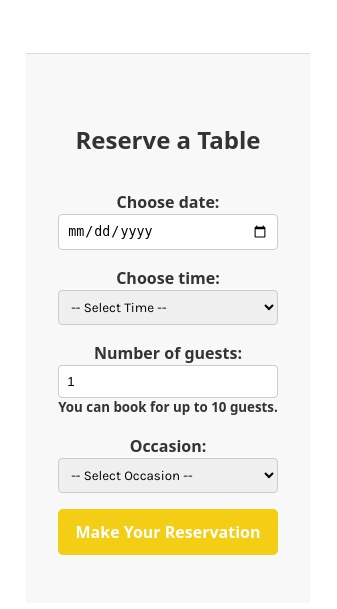
BookingPage Component › eksik veriyle gönderilince hata mesajları gösteriliyor
The image size is (337, 609).
Select "-- Select Time --" in the dropdown labelled "Choose time:" at point(168, 307), box [58,290,278,325]
Replace the text in the number field labelled "Number of guests: You can book for up to 10 guests." with "0" at point(168, 381), box [58,365,278,398]
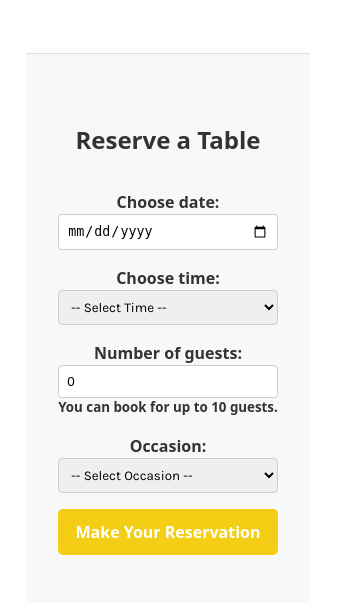
Submit the form named "reservation form", box [58,190,278,555]
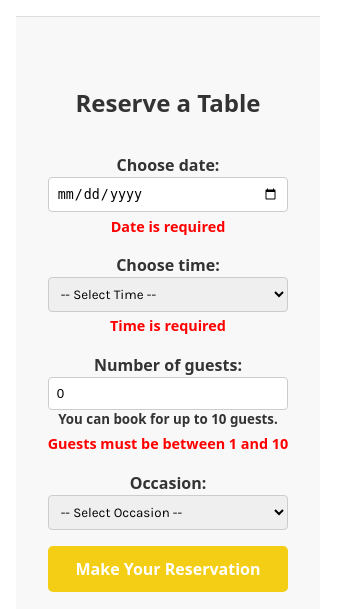
Result: the message "Date is required" is shown at [111,217,225,236]
